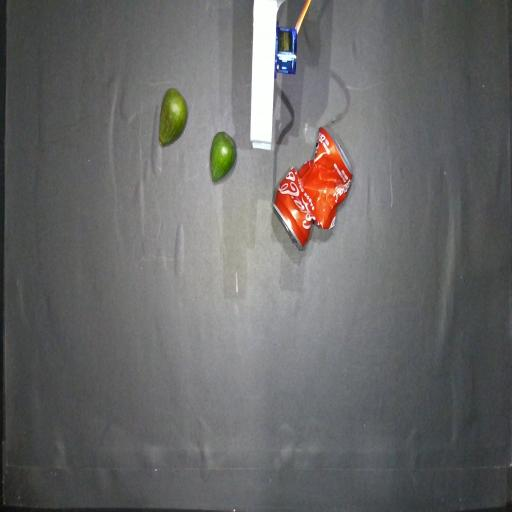higo: (159, 88, 187, 146), (210, 131, 237, 181)
lata_defectuoso: (273, 127, 352, 249)
